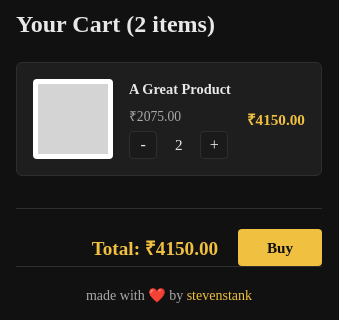
Test case: Cart › increases item quantity when + is clicked
The image size is (339, 320).
Click the button named "increase quantity" at (214, 145), box [200,131,228,159]
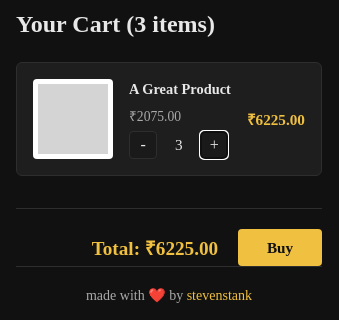
Expected: the text "3" is shown, [175,136,182,153]
